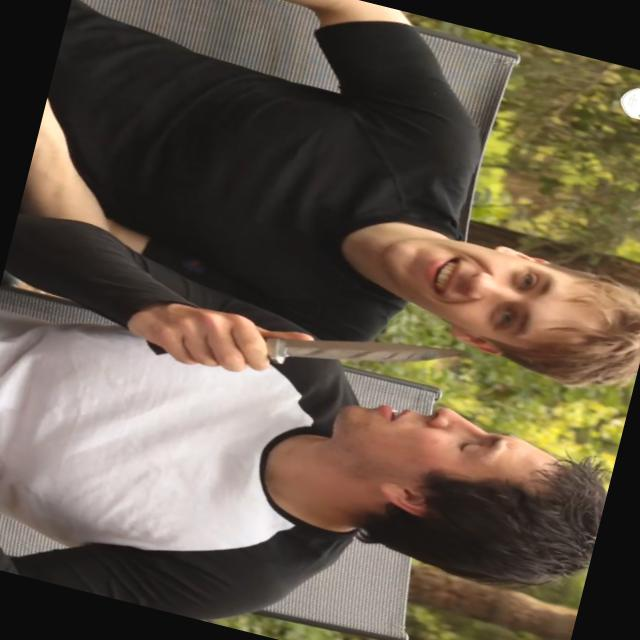knife: (169, 279, 476, 434)
